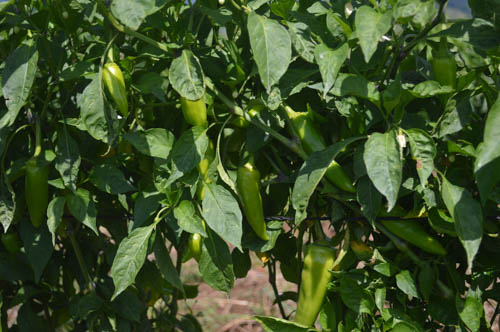ChiliPepper: (293, 113, 351, 188), (378, 205, 446, 254), (297, 246, 336, 330), (237, 166, 272, 242), (22, 158, 52, 226), (104, 65, 126, 117), (435, 57, 457, 103), (184, 89, 207, 128)
